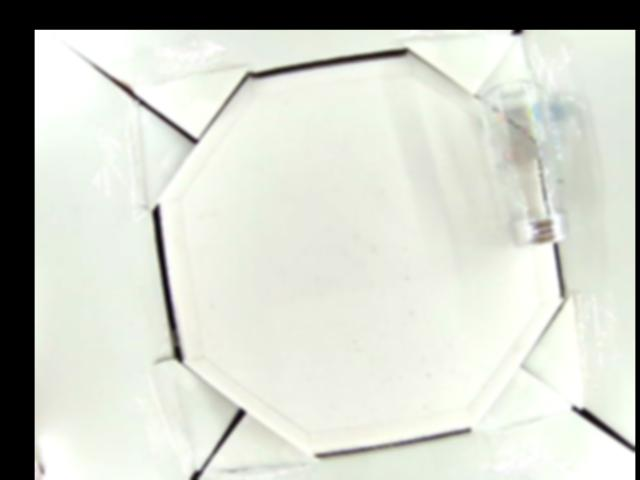Bottle: (477, 80, 565, 249)
